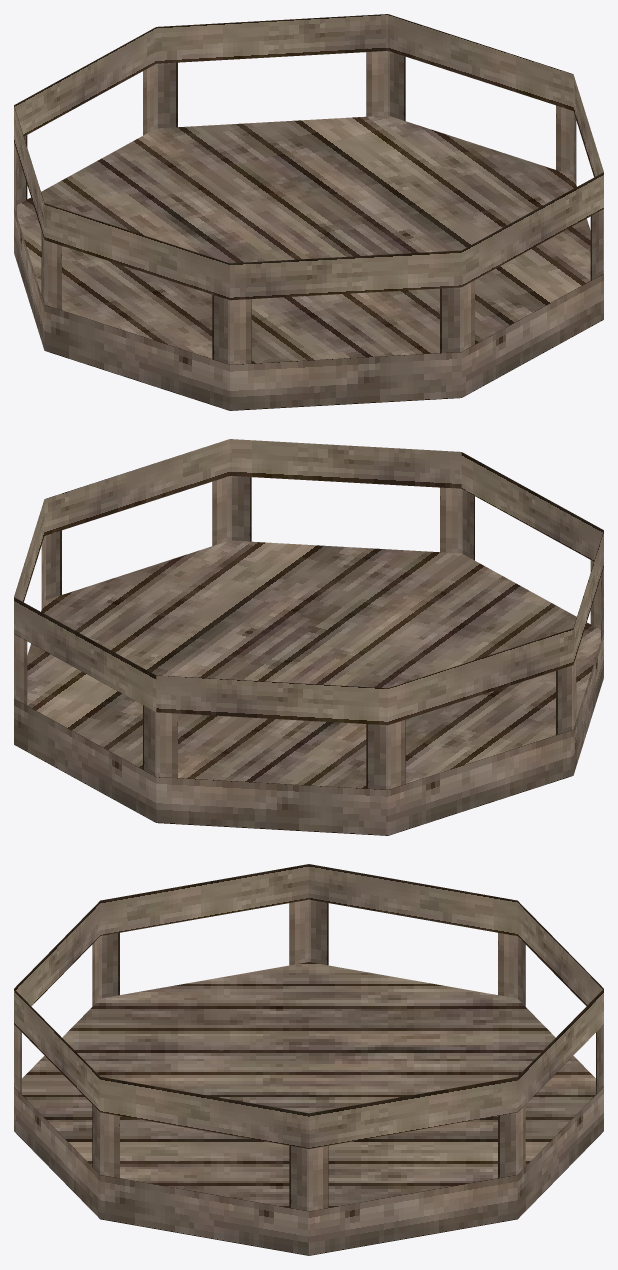
File: kenney-retro-fantasy-overhang-round-railing.glb
3 views of the same model, one above another, from view 1: azimuth 30°, elevation 25°; view 2: azimuth 150°, elevation 25°; view 3: azimuth 270°, elevation 25° (orthographic). The views are drawn at different scales.
Parts seen in each view (by area): view 1: overhang-round-railing, Group; view 2: overhang-round-railing, Group; view 3: overhang-round-railing, Group.
Part boxes in pixels (bbox=[...]): overhang-round-railing: bbox=[14, 51, 603, 410]; Group: bbox=[14, 14, 603, 300]; overhang-round-railing: bbox=[14, 476, 603, 835]; Group: bbox=[14, 439, 603, 725]; overhang-round-railing: bbox=[14, 899, 603, 1255]; Group: bbox=[14, 864, 603, 1148].
Size of the model in its own units: 1.5 by 0.4 by 1.5.
1 material, 1 textured.
